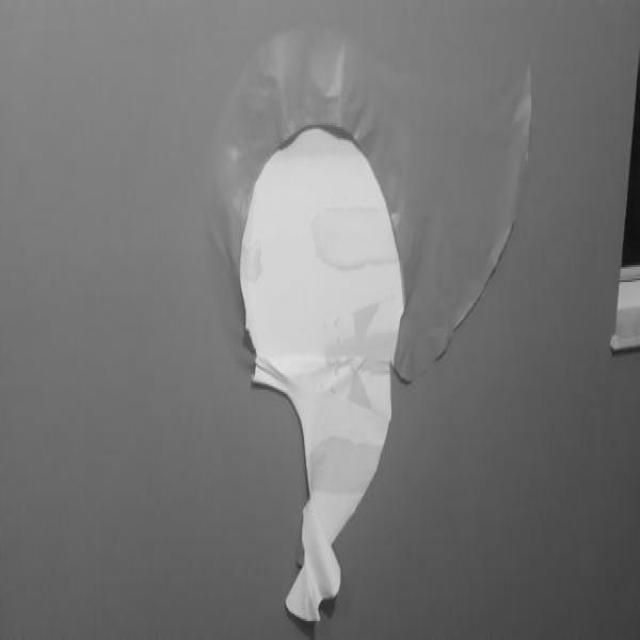peeling paint: (203, 0, 539, 640)
